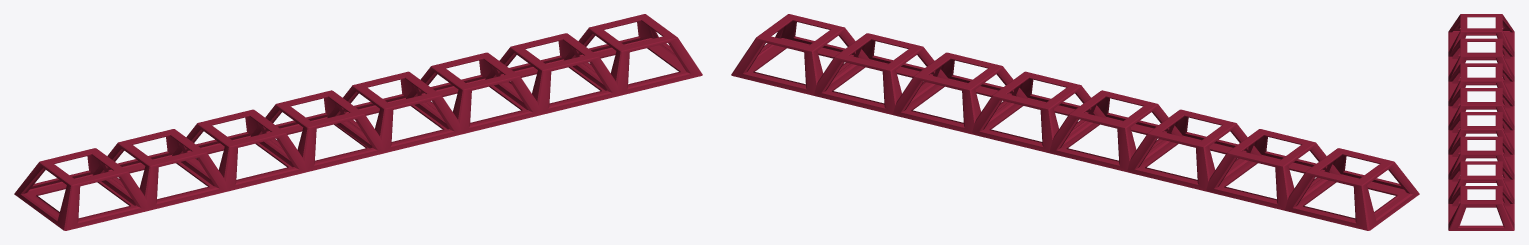
Rendered from led_mini_line.obj.
The picture shows the model from 3 angles, left to right: view 1: azimuth 30°, elevation 25°; view 2: azimuth 150°, elevation 25°; view 3: azimuth 270°, elevation 25°; orthographic projection. The views are drawn at different scales.
Parts seen in each view (by area): view 1: Cube.003_Cube.011; view 2: Cube.003_Cube.011; view 3: Cube.003_Cube.011.
Boxes of the visible parts, x1=… form: Cube.003_Cube.011: x1=14, y1=14, x2=702, y2=230; Cube.003_Cube.011: x1=731, y1=14, x2=1419, y2=230; Cube.003_Cube.011: x1=1448, y1=14, x2=1514, y2=230.
Bounding box in the file's own units: 14.3 × 0.7606 × 2.
